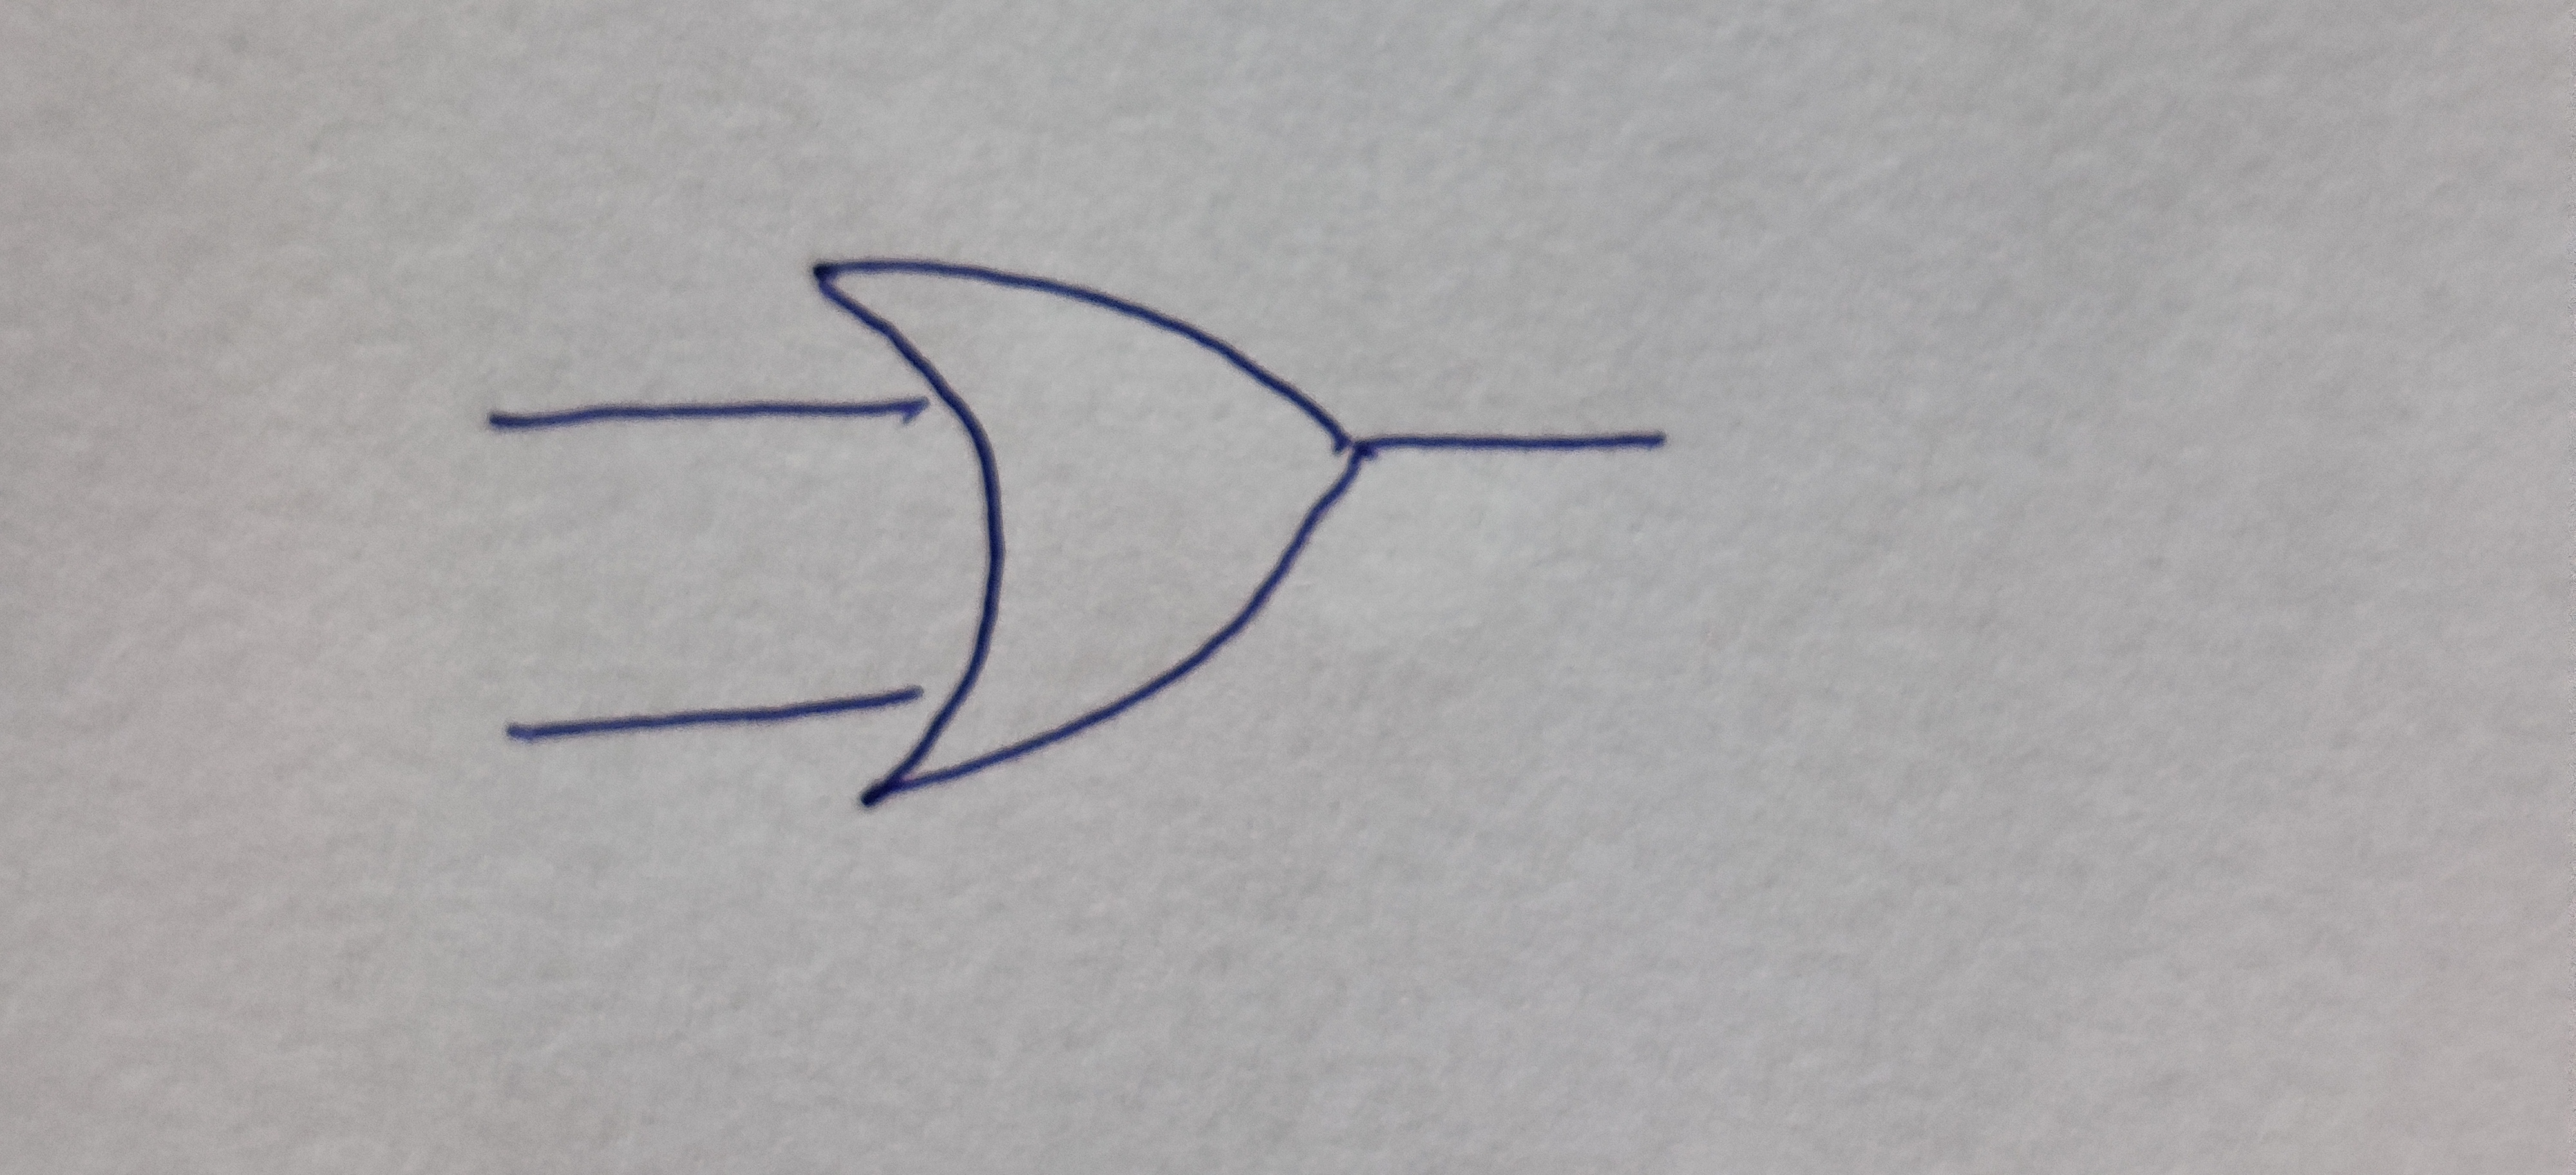or: (810, 256, 1367, 802)
